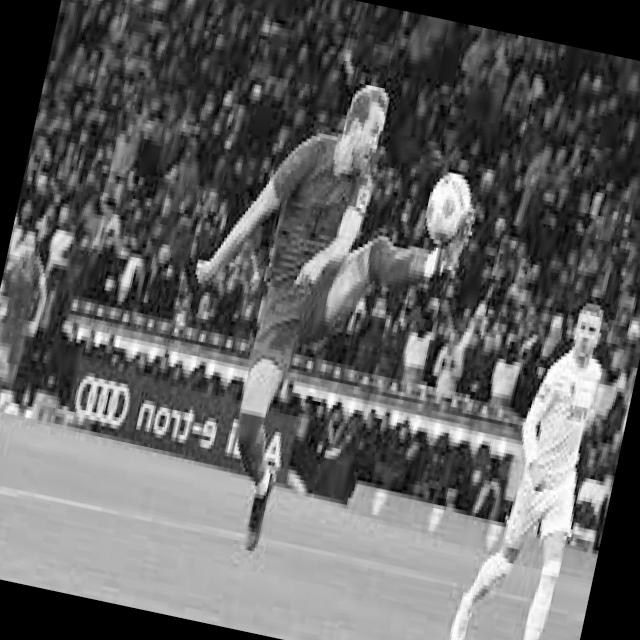football: (411, 160, 480, 256)
